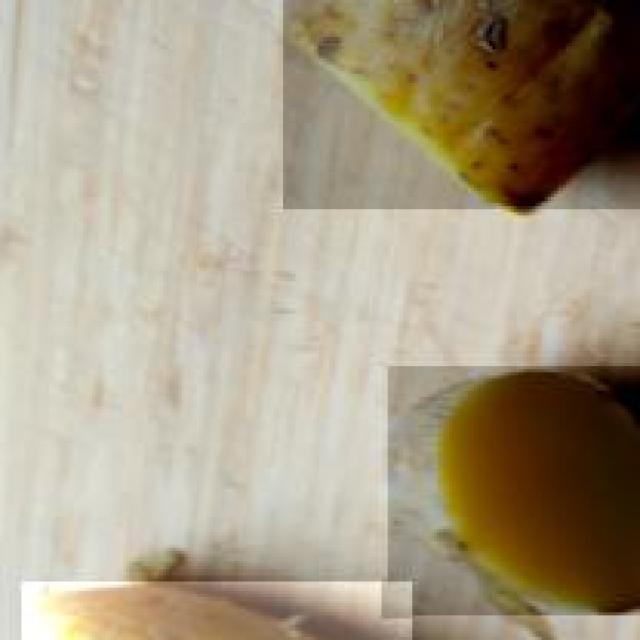potato: (280, 0, 640, 212), (385, 366, 640, 618), (19, 581, 413, 640)
